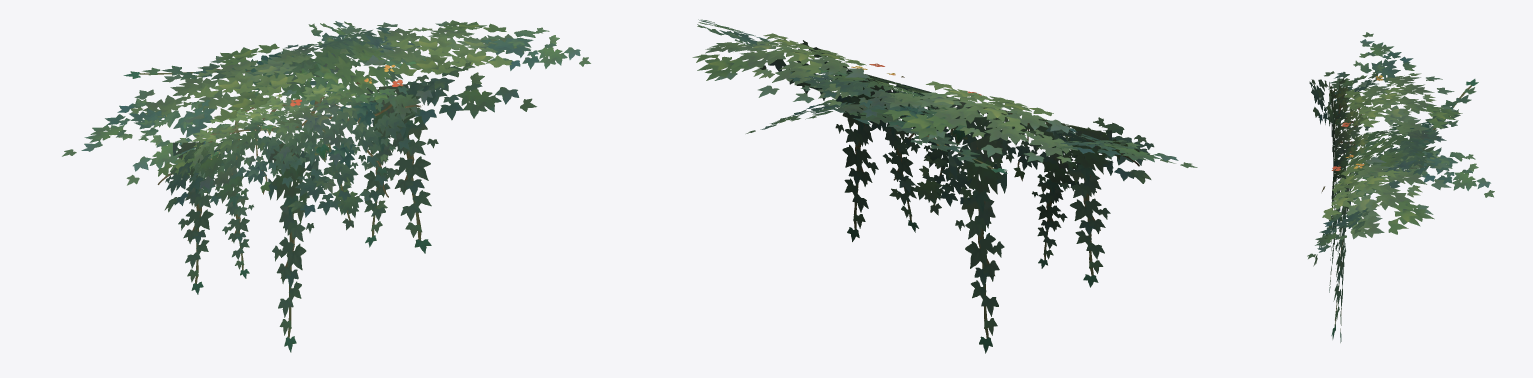
Rendered from Stages_LYLvy108_Vo.fbx.
3 views of the same model, side by side, from view 1: azimuth 30°, elevation 25°; view 2: azimuth 150°, elevation 25°; view 3: azimuth 270°, elevation 25° (orthographic). The views are drawn at different scales.
Parts seen in each view (by area): view 1: Stages_LYLvy108_Vo; view 2: Stages_LYLvy108_Vo; view 3: Stages_LYLvy108_Vo.
Boxes of the visible parts, bbox=[...] form: Stages_LYLvy108_Vo: bbox=[62, 20, 590, 352]; Stages_LYLvy108_Vo: bbox=[692, 19, 1197, 353]; Stages_LYLvy108_Vo: bbox=[1307, 32, 1494, 342].
Size of the model in its own units: 7.38 by 3.51 by 2.84.
Materials: 1 (1 with a texture image).
